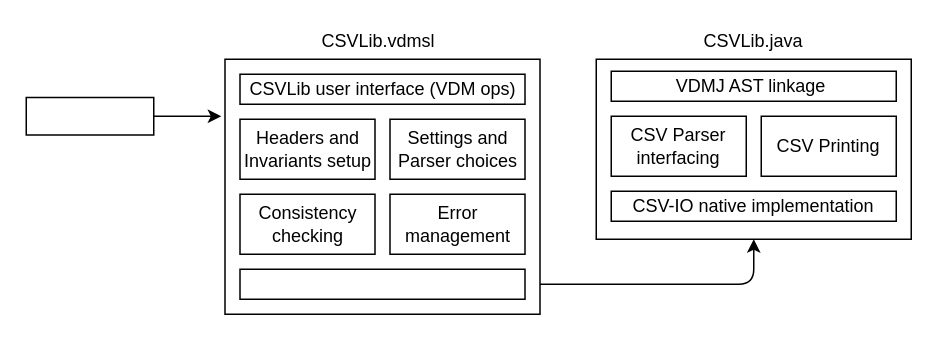
This 938x341 diagram has some shape labels left out. Each missing label, with the centre of its shape:
"CSV-IO (VDM native calls)" goes at (x=381, y=283).
"User.vdmsl" goes at (x=89, y=115).
